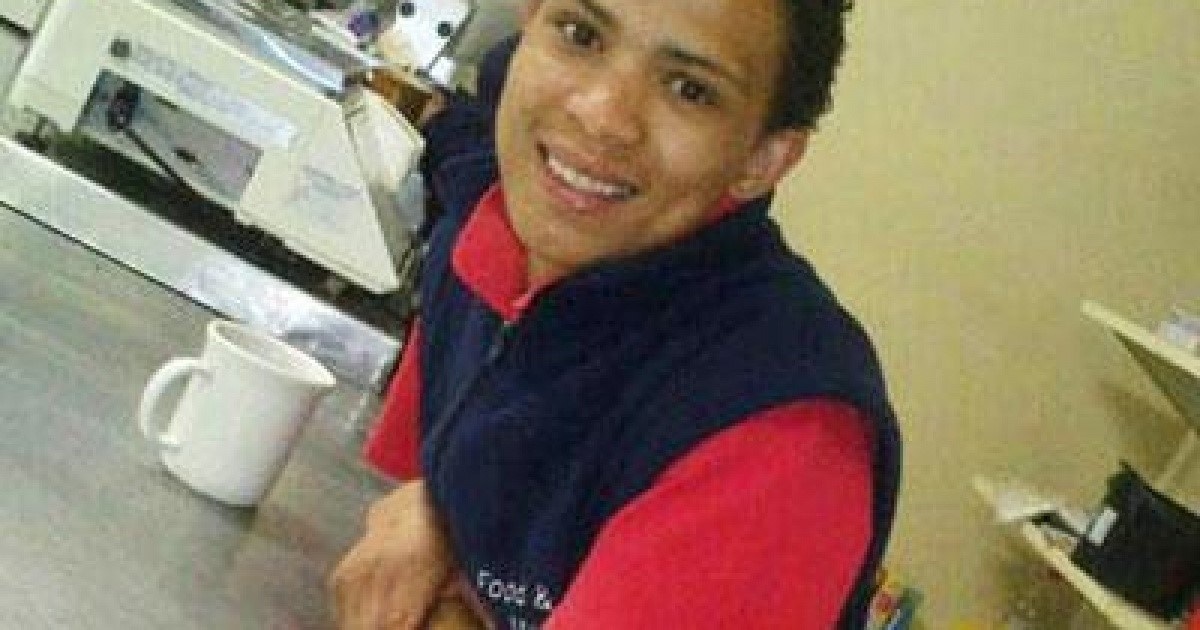face_no_mask: (497, 2, 848, 267)
